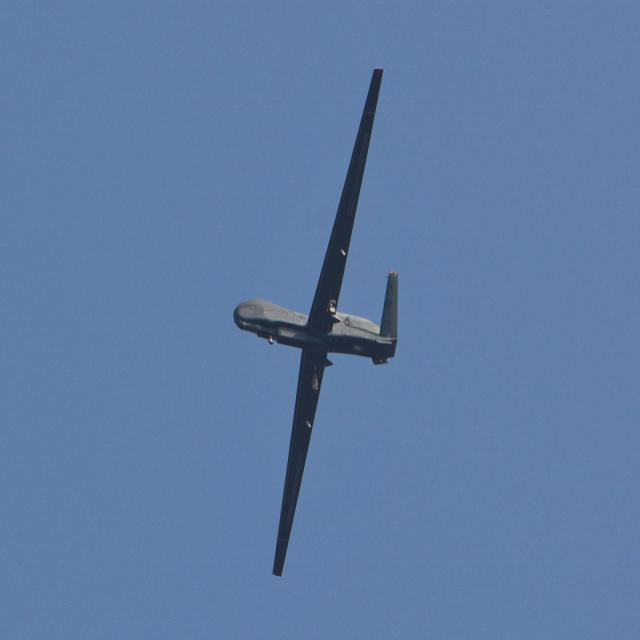MIL_Plane: (232, 65, 398, 578)
